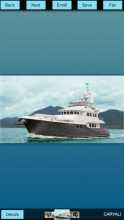yacht: (22, 84, 112, 138)
